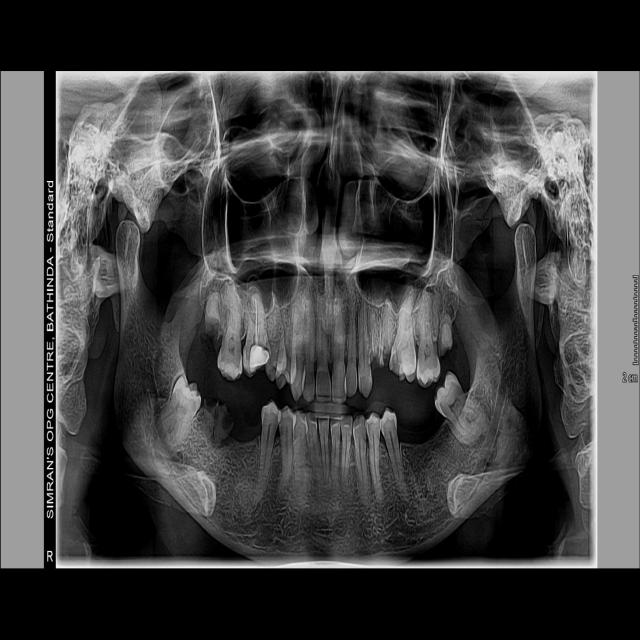Root Piece: (224, 436, 240, 501), (212, 402, 234, 446), (205, 291, 222, 341), (438, 314, 452, 355), (210, 459, 225, 485)
